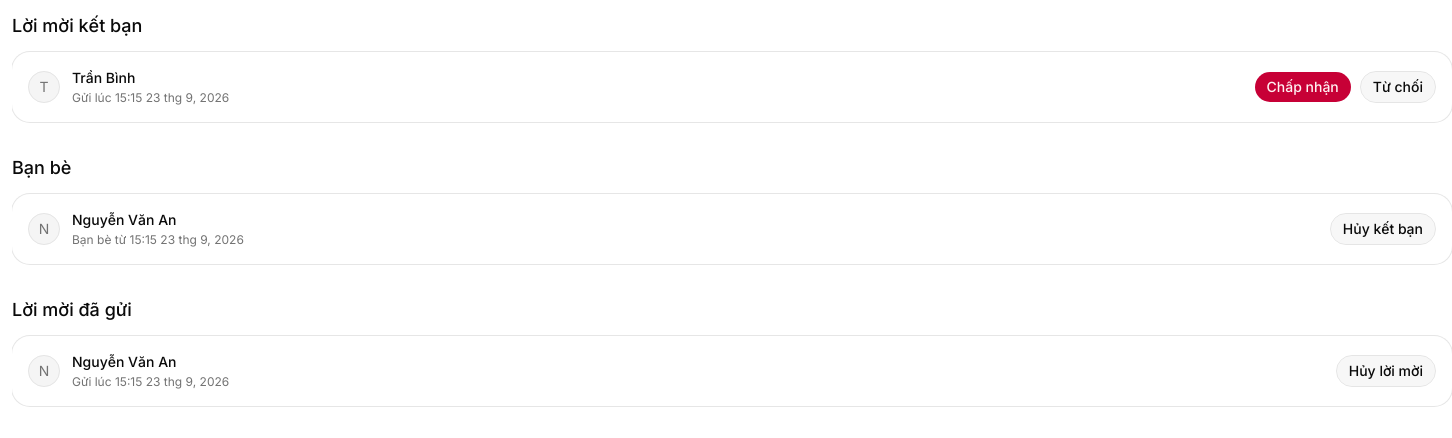
Test: FriendsScreen — thao tác tại chỗ › 403 Chấp nhận → câu Q-E3 (kèm tên) ở đầu mục, thẻ gỡ, mục Bạn bè KHÔNG nạp lại
Click the button "Chấp nhận" at (1303, 87), box [1254, 71, 1352, 103]
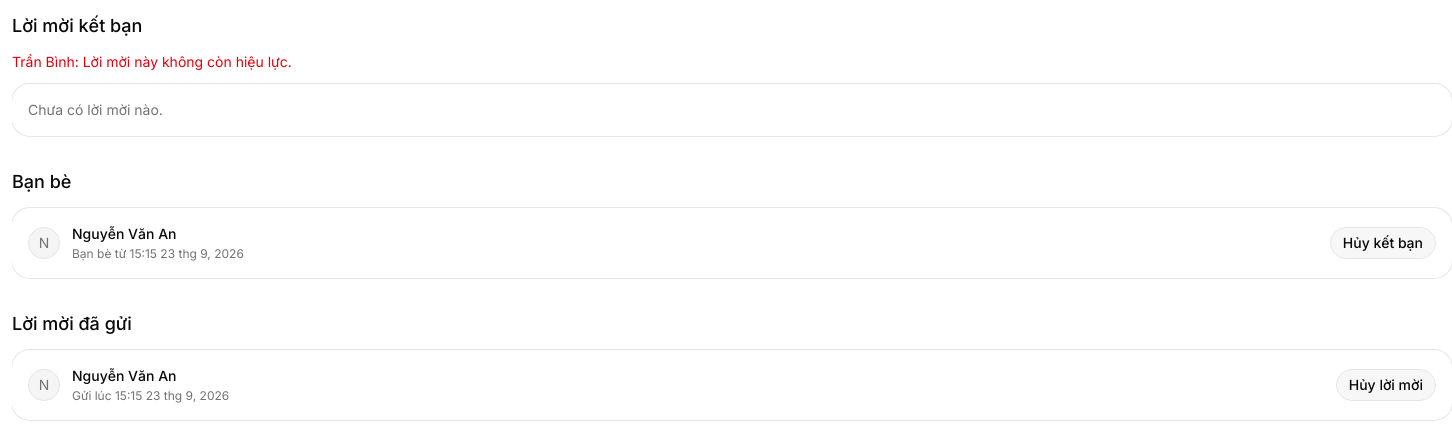
Result: the message reads "Trần Bình: Lời mời này không còn hiệu lực." at [12, 53, 292, 70]
